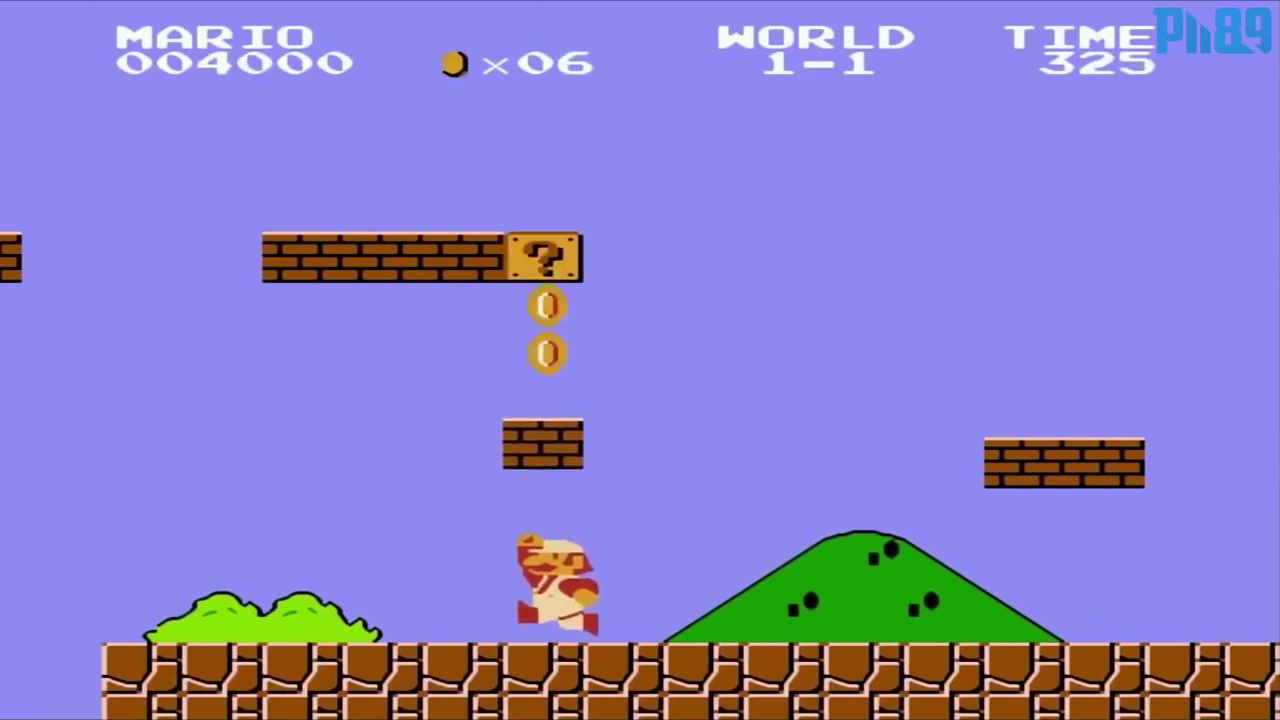mario: (513, 523, 605, 639)
